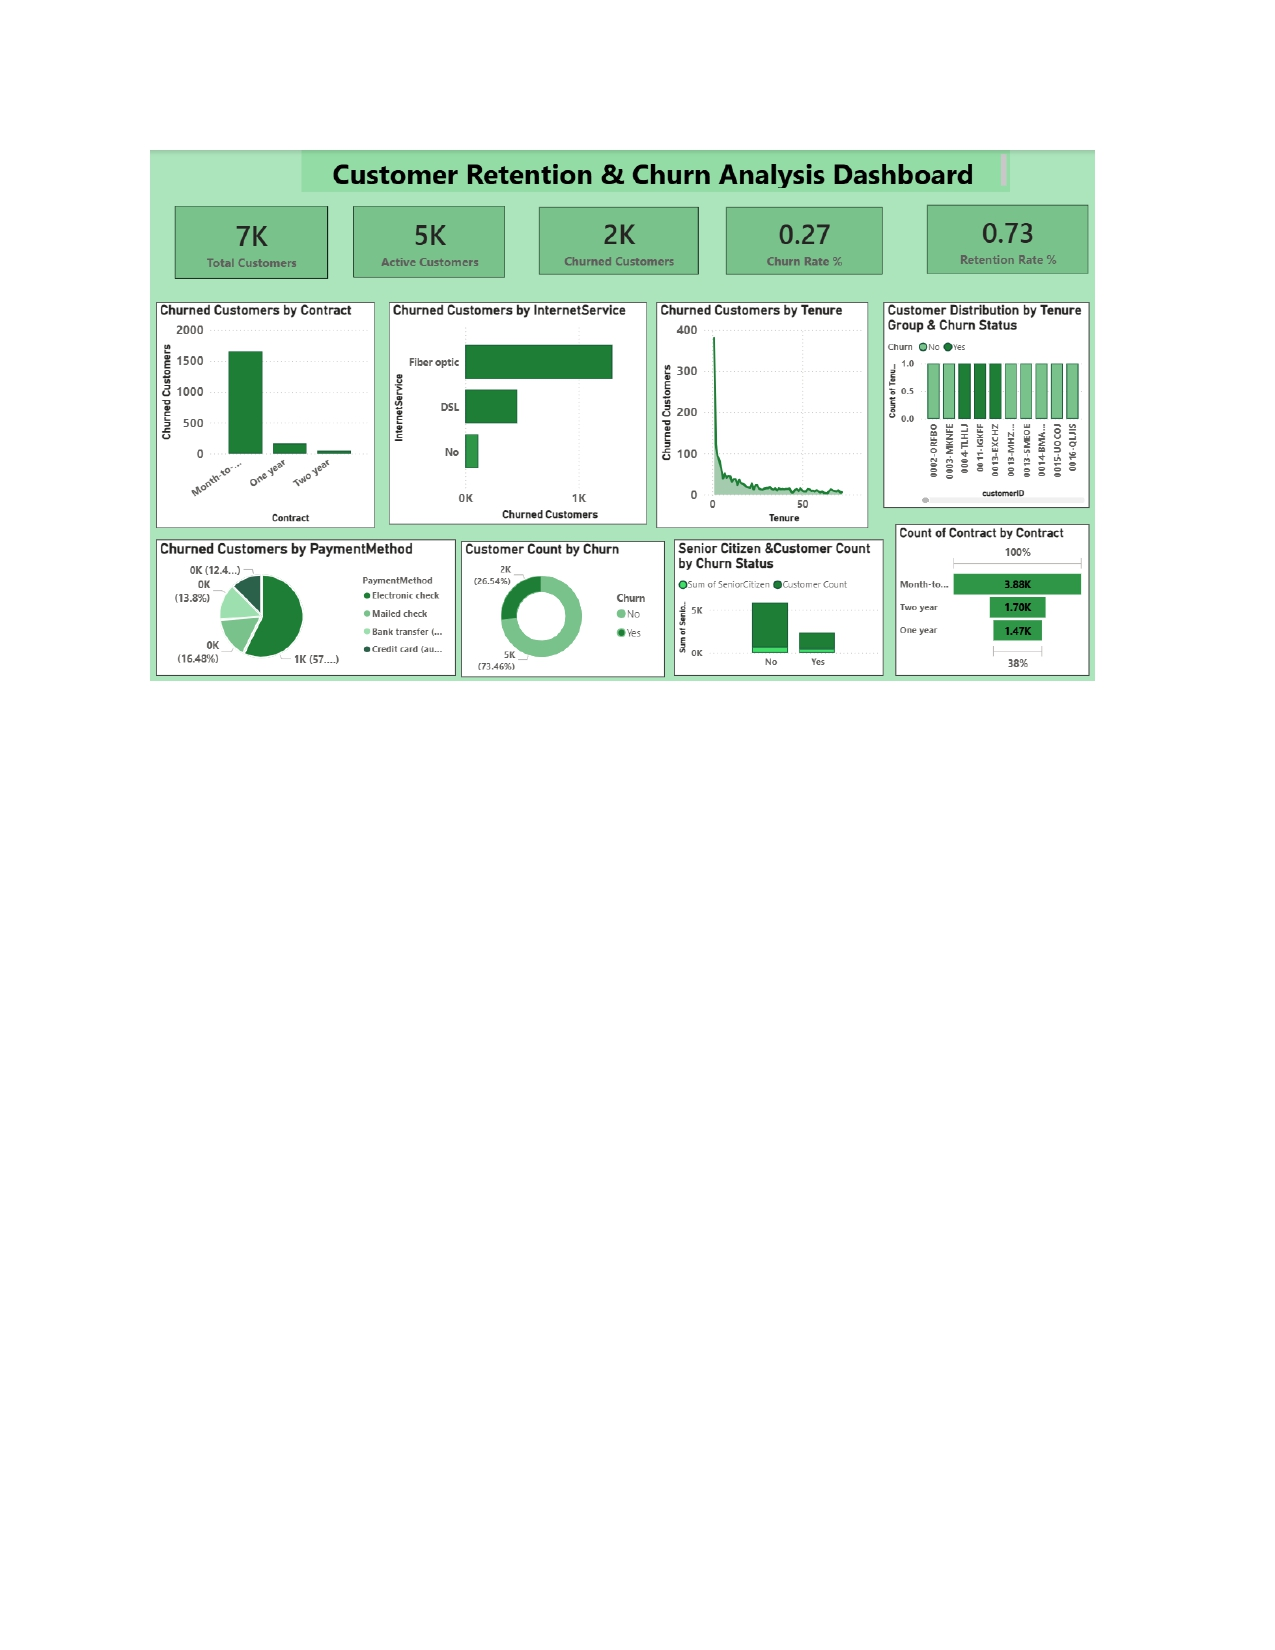

The page's visual inventory and layout, read from the dashboard file:
{"tool":"powerbi","page":{"name":"Page 1","canvas":[1280,720],"ordinal":0},"visuals":[{"type":"textbox","box":[205.2,0,952.8,55.7],"z":1000},{"type":"cardVisual","fields":{"Data":["WA_Fn-UseC_-Telco-Customer-Chur.Churned Customers"]},"box":[507.4,58.9,248.1,125.7],"z":2000},{"type":"cardVisual","fields":{"Data":["WA_Fn-UseC_-Telco-Customer-Chur.Active Customers"]},"box":[257.7,57.3,238.6,130.4],"z":3000},{"type":"cardVisual","fields":{"Data":["WA_Fn-UseC_-Telco-Customer-Chur.Churn Rate %"]},"box":[758.7,58.9,245,125.7],"z":4000},{"type":"cardVisual","fields":{"Data":["WA_Fn-UseC_-Telco-Customer-Chur.Retention Rate %"]},"box":[1029.1,55.7,251.3,127.2],"z":5000},{"type":"cardVisual","fields":{"Data":["WA_Fn-UseC_-Telco-Customer-Chur.Total Customers"]},"box":[17.5,57.3,240.2,132],"z":6000},{"type":"clusteredBarChart","fields":{"Category":["WA_Fn-UseC_-Telco-Customer-Chur.InternetService"],"Y":["WA_Fn-UseC_-Telco-Customer-Chur.Churned Customers"]},"box":[322.9,203.6,346.8,299],"z":7000},{"type":"clusteredColumnChart","fields":{"Category":["WA_Fn-UseC_-Telco-Customer-Chur.Contract"],"Y":["WA_Fn-UseC_-Telco-Customer-Chur.Churned Customers"]},"box":[9.5,203.6,294.3,303.8],"z":8000},{"type":"pieChart","fields":{"Category":["WA_Fn-UseC_-Telco-Customer-Chur.PaymentMethod"],"Y":["WA_Fn-UseC_-Telco-Customer-Chur.Churned Customers"]},"box":[9.5,523.3,402.4,182.9],"z":9000},{"type":"areaChart","title":"Churned Customers by Tenure","fields":{"Category":["WA_Fn-UseC_-Telco-Customer-Chur.tenure"],"Y":["WA_Fn-UseC_-Telco-Customer-Chur.Churned Customers"]},"box":[682.4,203.6,284.7,303.8],"z":10000},{"type":"donutChart","fields":{"Category":["WA_Fn-UseC_-Telco-Customer-Chur.Churn"],"Y":["WA_Fn-UseC_-Telco-Customer-Chur.Customer Count"]},"box":[419.9,524.9,273.6,182.9],"z":11000},{"type":"columnChart","title":"Customer Distribution by Tenure Group & Churn Status","fields":{"Category":["WA_Fn-UseC_-Telco-Customer-Chur.customerID"],"Y":["WA_Fn-UseC_-Telco-Customer-Chur.Tenure Group"],"Series":["WA_Fn-UseC_-Telco-Customer-Chur.Churn"]},"box":[987.8,203.6,276.8,276.8],"z":11001},{"type":"lineStackedColumnComboChart","title":"Senior Citizen &Customer Count by Churn Status","fields":{"Category":["WA_Fn-UseC_-Telco-Customer-Chur.Churn"],"Y":["WA_Fn-UseC_-Telco-Customer-Chur.SeniorCitizen","WA_Fn-UseC_-Telco-Customer-Chur.Customer Count"]},"box":[706.2,523.3,281.5,182.9],"z":11002},{"type":"funnel","fields":{"Category":["WA_Fn-UseC_-Telco-Customer-Chur.Contract","WA_Fn-UseC_-Telco-Customer-Chur.Churn"],"Y":["WA_Fn-UseC_-Telco-Customer-Chur.Contract"]},"box":[1003.7,502.6,260.9,203.6],"z":11003}]}

Visuals, with their boxes on the page's 1280x720 design canvas (x1, y1, x2, y2). These are canvas units, not pixel positions in the 1275x1650 screenshot, which may show the page scaled, cropped or inside an application window:
textbox: bbox=[205, 0, 1158, 56]
cardVisual - WA_Fn-UseC_-Telco-Customer-Chur.Churned Customers: bbox=[507, 59, 756, 185]
cardVisual - WA_Fn-UseC_-Telco-Customer-Chur.Active Customers: bbox=[258, 57, 496, 188]
cardVisual - WA_Fn-UseC_-Telco-Customer-Chur.Churn Rate %: bbox=[759, 59, 1004, 185]
cardVisual - WA_Fn-UseC_-Telco-Customer-Chur.Retention Rate %: bbox=[1029, 56, 1280, 183]
cardVisual - WA_Fn-UseC_-Telco-Customer-Chur.Total Customers: bbox=[18, 57, 258, 189]
clusteredBarChart - WA_Fn-UseC_-Telco-Customer-Chur.InternetService x WA_Fn-UseC_-Telco-Customer-Chur.Churned Customers: bbox=[323, 204, 670, 503]
clusteredColumnChart - WA_Fn-UseC_-Telco-Customer-Chur.Contract x WA_Fn-UseC_-Telco-Customer-Chur.Churned Customers: bbox=[10, 204, 304, 507]
pieChart - WA_Fn-UseC_-Telco-Customer-Chur.PaymentMethod x WA_Fn-UseC_-Telco-Customer-Chur.Churned Customers: bbox=[10, 523, 412, 706]
"Churned Customers by Tenure" areaChart: bbox=[682, 204, 967, 507]
donutChart - WA_Fn-UseC_-Telco-Customer-Chur.Churn x WA_Fn-UseC_-Telco-Customer-Chur.Customer Count: bbox=[420, 525, 694, 708]
"Customer Distribution by Tenure Group & Churn Status" columnChart: bbox=[988, 204, 1265, 480]
"Senior Citizen &Customer Count by Churn Status" lineStackedColumnComboChart: bbox=[706, 523, 988, 706]
funnel - WA_Fn-UseC_-Telco-Customer-Chur.Contract x WA_Fn-UseC_-Telco-Customer-Chur.Churn: bbox=[1004, 503, 1265, 706]
